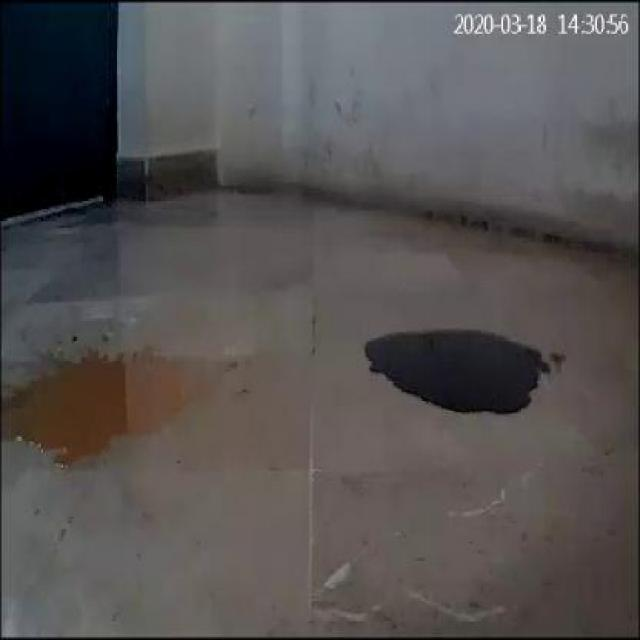spill: (5, 350, 221, 468), (356, 325, 558, 410)
